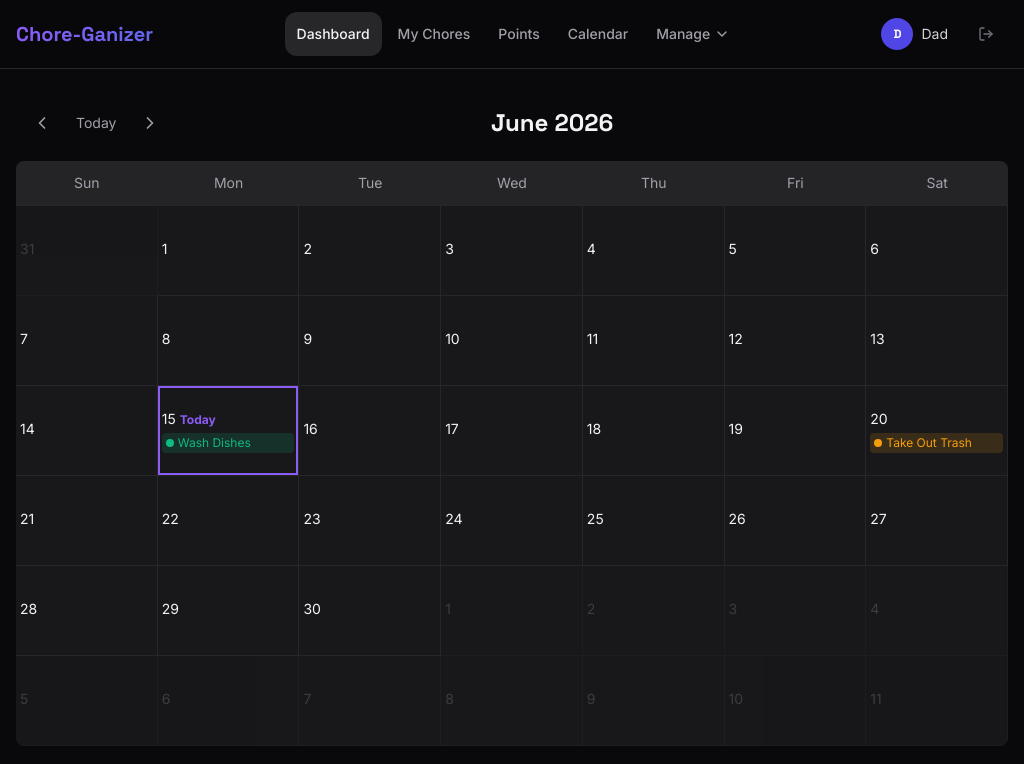
Test: CalendarPage › clicking next month increments month
Click the button named "Next month": (150, 123) top-left (124, 101), bottom-right (176, 145)
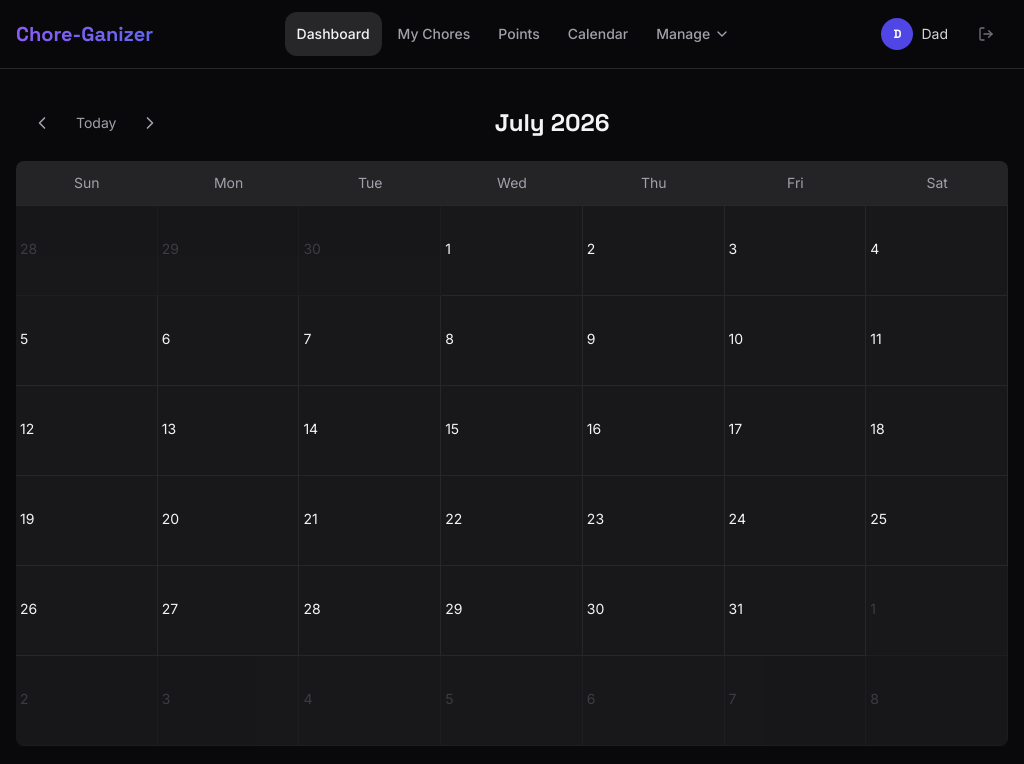
Expected: the heading "July 2026" is shown, top-left (495, 107), bottom-right (610, 139)
